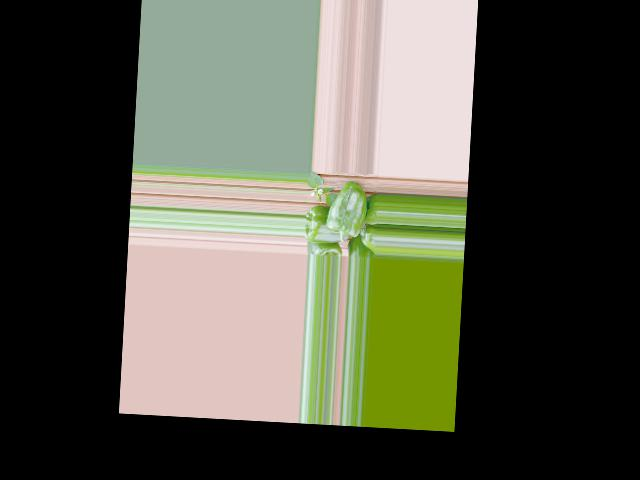bell_pepper: (357, 228, 377, 255)
